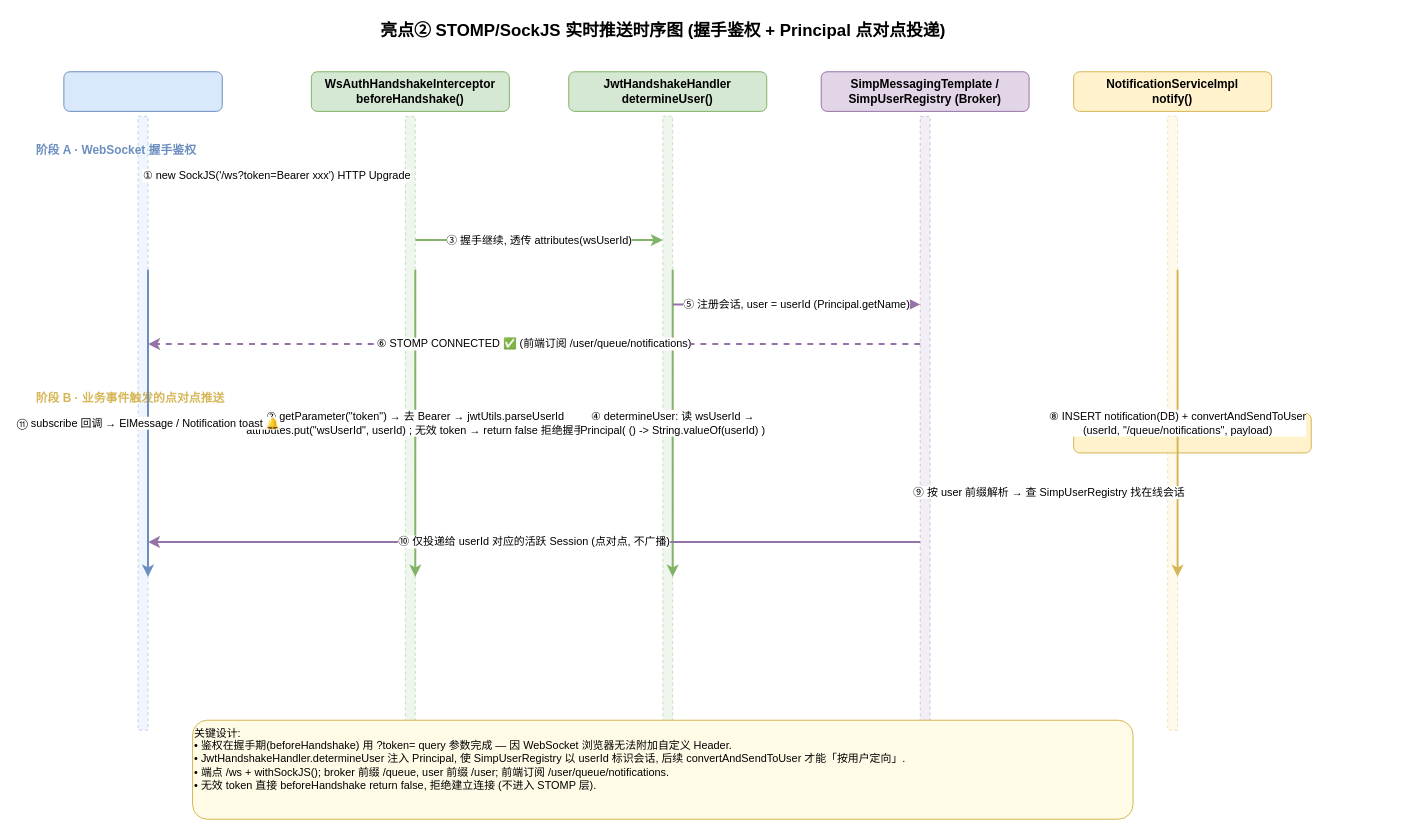
Image size: 1417x837. Some labels were removed from this diagram. Each missing label, with the box of its shape:
⑦ 触发源: 预约/审批/报修/超时取消 等业务事件 → 经 MQ 异步到达: (1073, 412, 1311, 453)
前端 SockJS stompClient: (63, 71, 222, 111)
